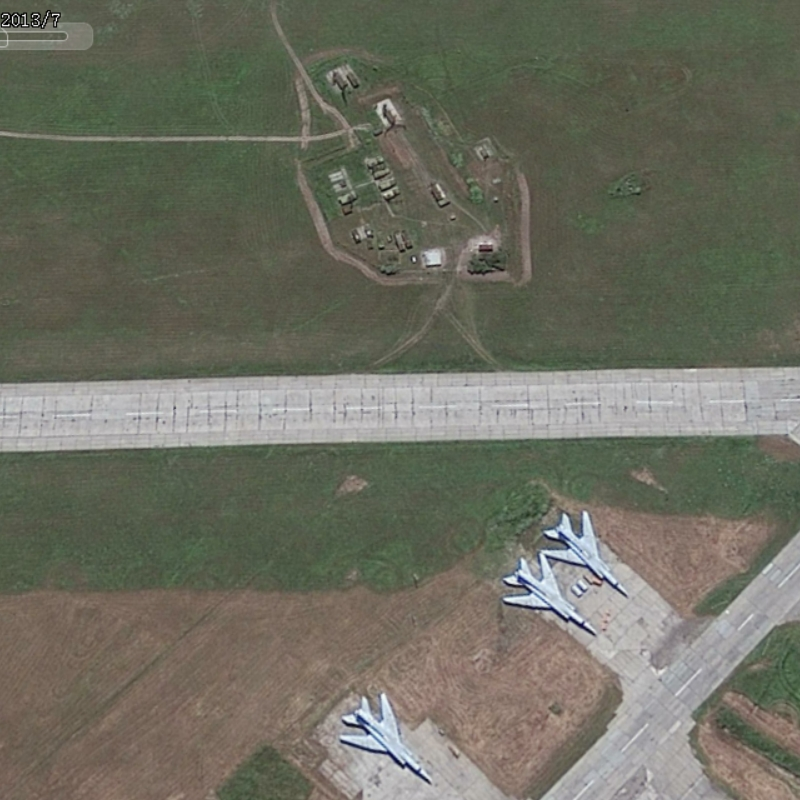A12: (337, 691, 436, 784), (500, 551, 601, 638), (537, 508, 633, 599)
